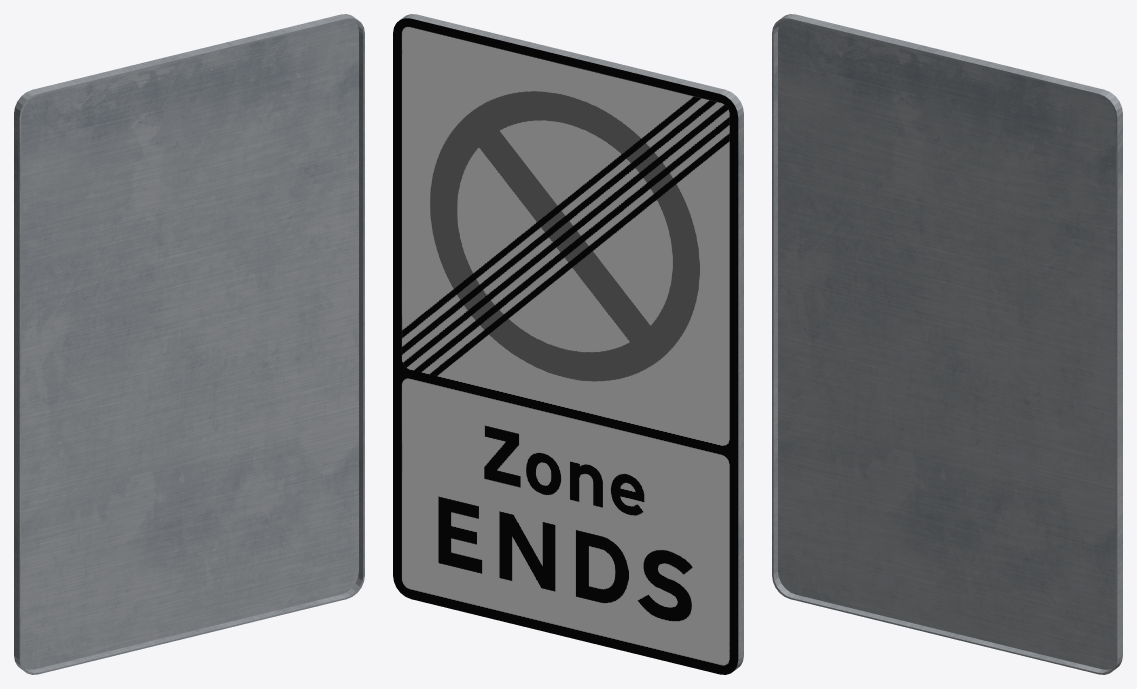
File: End_of_controlled_parking_zone.fbx
3 views of the same model, side by side, from view 1: azimuth 30°, elevation 25°; view 2: azimuth 150°, elevation 25°; view 3: azimuth 330°, elevation 25° (orthographic).
Visible parts, largest first — view 1: End of controlled parking zone; view 2: End of controlled parking zone; view 3: End of controlled parking zone.
Part boxes in pixels (<box>): End of controlled parking zone: <box>14,14,364,674</box>; End of controlled parking zone: <box>393,14,743,674</box>; End of controlled parking zone: <box>772,14,1122,674</box>.
Bounding box in the file's own units: 0.02 × 0.7 × 1.12.
